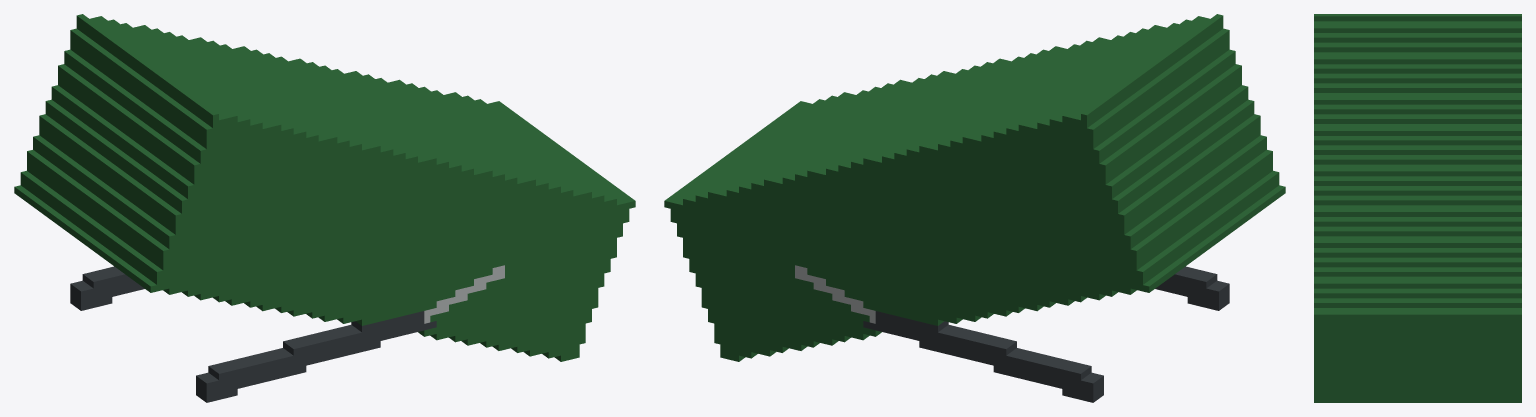
File: combine_harvester_feeder.glb
3 renders of one model, left to right at view 1: azimuth 30°, elevation 25°; view 2: azimuth 150°, elevation 25°; view 3: azimuth 270°, elevation 25°, orthographic. The views are drawn at different scales.
Parts seen in each view (by area): view 1: body:compound; view 2: body:compound; view 3: body:compound.
Boxes of the visible parts, x1=… form: body:compound: x1=14, y1=14, x2=635, y2=402; body:compound: x1=664, y1=14, x2=1285, y2=402; body:compound: x1=1314, y1=14, x2=1521, y2=402.
Bounding box in the file's own units: 2.44 × 1.59 × 1.19.
